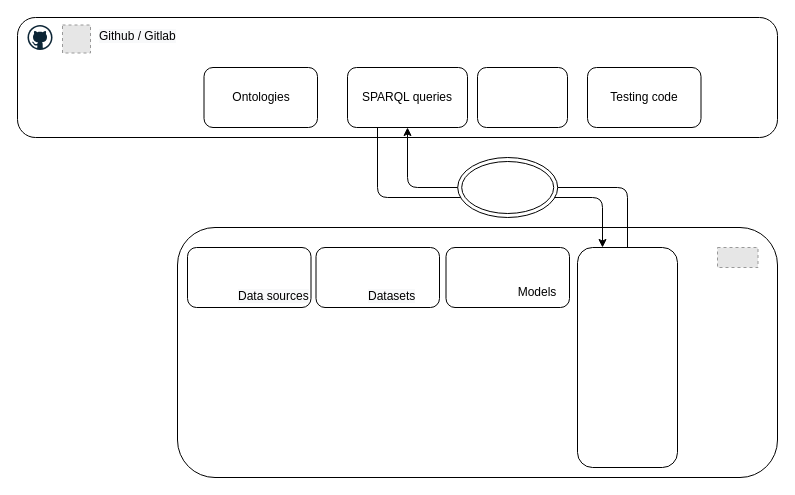
Image size: 795x495. Some labels were removed from this diagram. Grey dashed boxes stand in for pictures. The shapes that lost their labels are listed below. From the top down, each one's box as (x1, y1, x2, y2) in pixels, then its label:
(476, 66, 568, 128): Graphmart config
(457, 156, 558, 218): Graphmart assemble / disassemble
(576, 246, 678, 468): Graphmart
